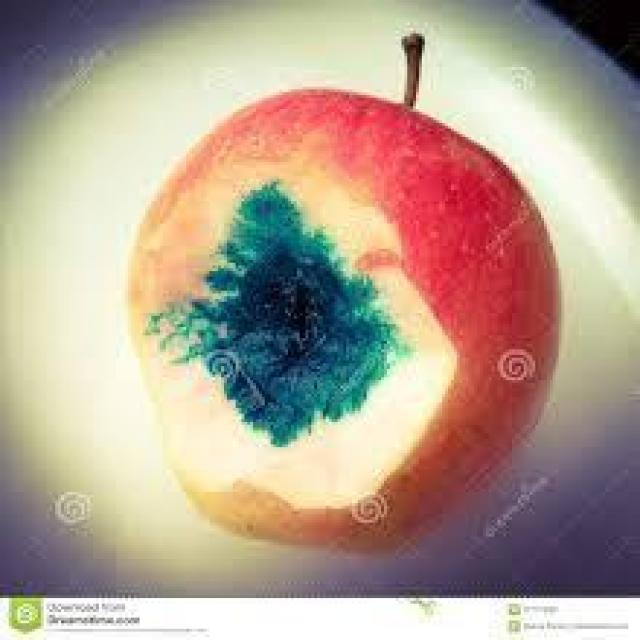maca: (122, 31, 562, 553)
